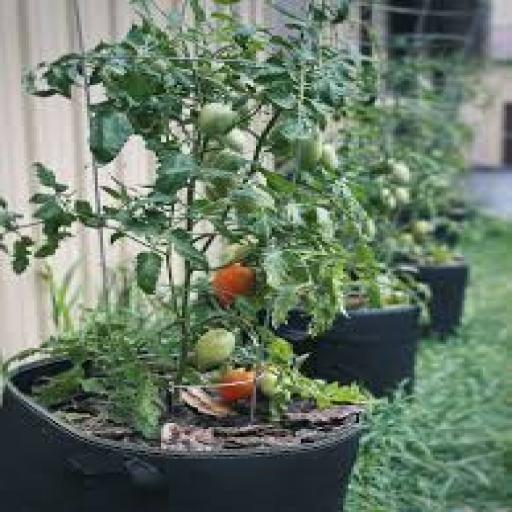tomato: (212, 263, 255, 306), (196, 329, 234, 371), (198, 103, 237, 138), (217, 368, 255, 403), (233, 186, 274, 213), (296, 137, 324, 170), (206, 151, 245, 171), (222, 129, 248, 154), (222, 242, 253, 262), (259, 370, 279, 397), (322, 145, 340, 171), (391, 161, 411, 183), (412, 220, 432, 241), (381, 188, 395, 209), (394, 188, 411, 205)
